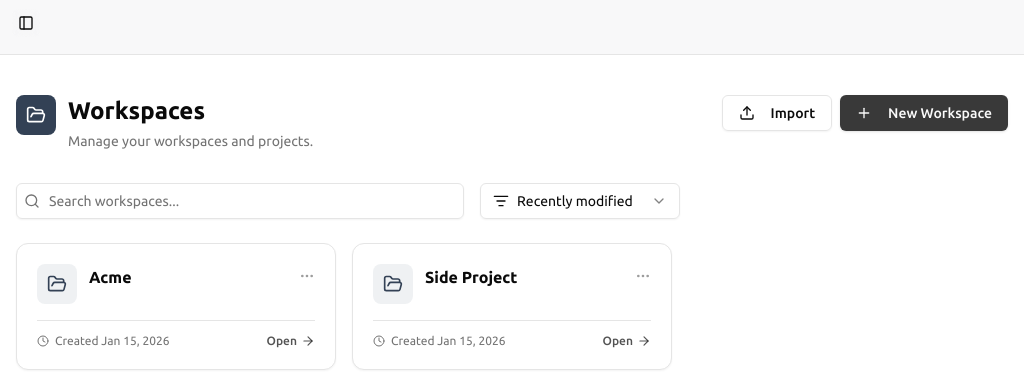
Scenario: workspaces › filters by search
Type "side" into the field labelled "Search workspaces" at (240, 201), box [16, 183, 464, 219]
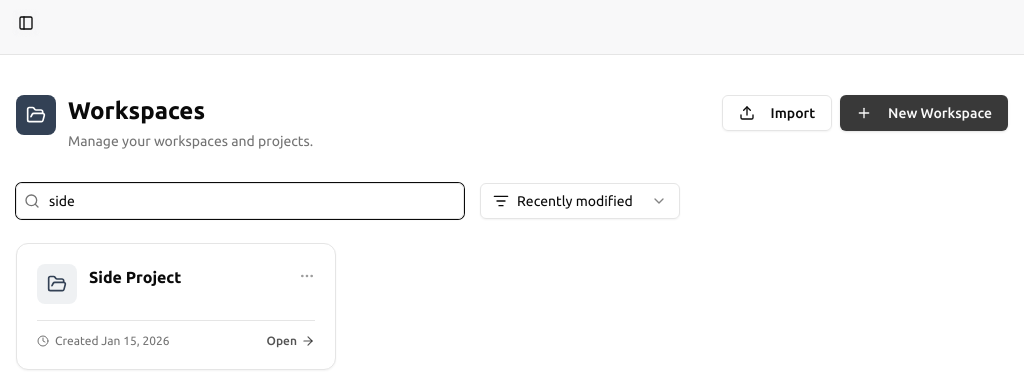
Expected: the heading "Side Project" is shown, [89, 268, 182, 286]
Result: the number of links with test id "collection-item" is 1 at [16, 243, 336, 370]
